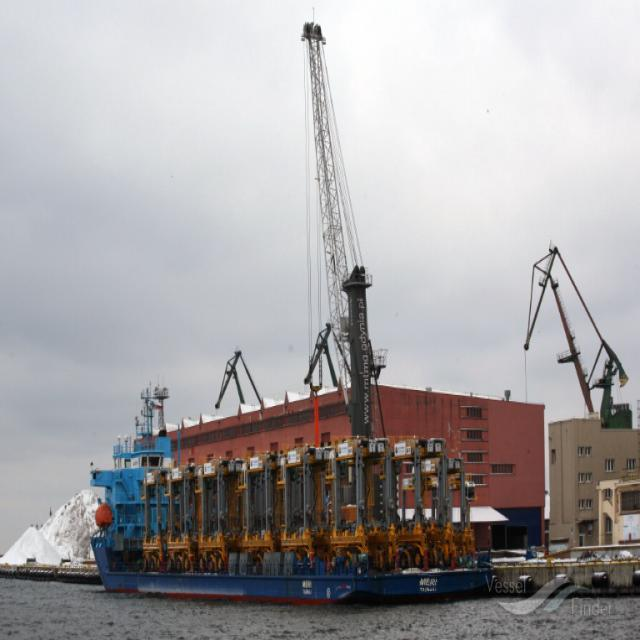OCR: (412, 573, 441, 591)
